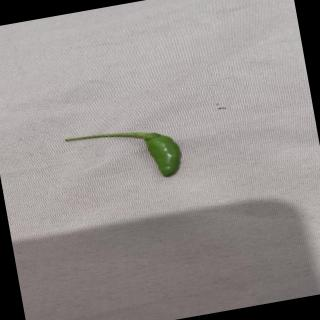Cabai Hijau: (48, 112, 193, 202)
